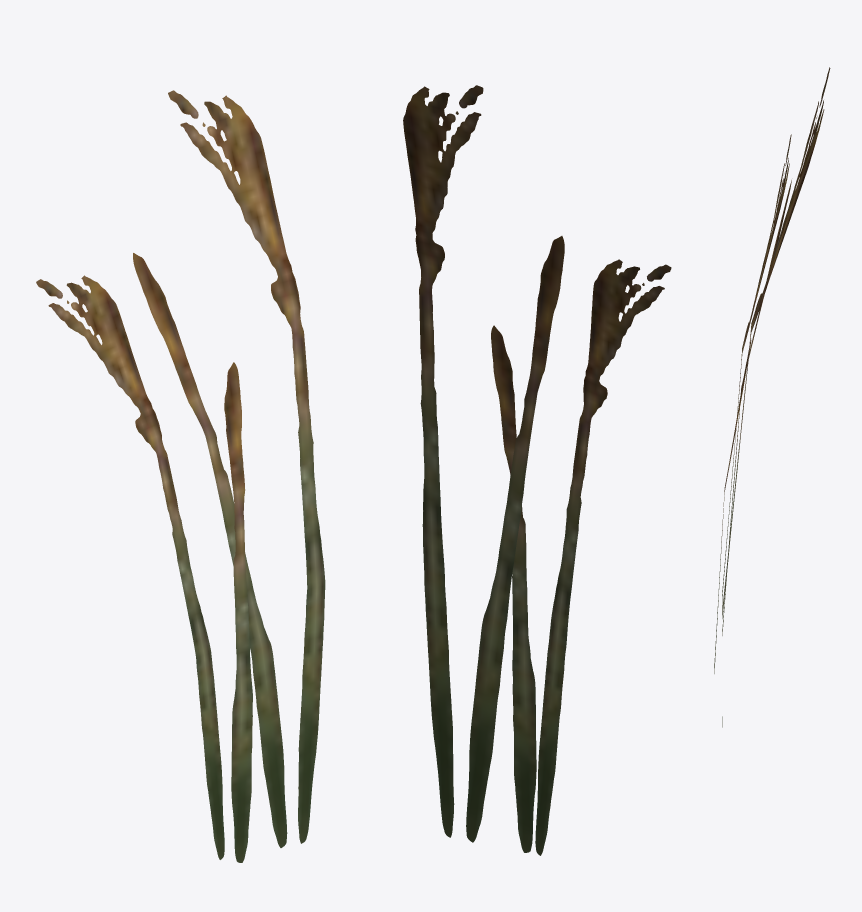
3 views of the same model, side by side, from view 1: azimuth 30°, elevation 25°; view 2: azimuth 150°, elevation 25°; view 3: azimuth 270°, elevation 25° (orthographic). The views are drawn at different scales.
Visible parts, largest first — view 1: wj36; view 2: wj36; view 3: wj36.
Part boxes in pixels (x1=…): wj36: x1=36, y1=90, x2=325, y2=862; wj36: x1=403, y1=85, x2=671, y2=855; wj36: x1=714, y1=67, x2=830, y2=727.
Size of the model in its own units: 120 by 323 by 46.98.
